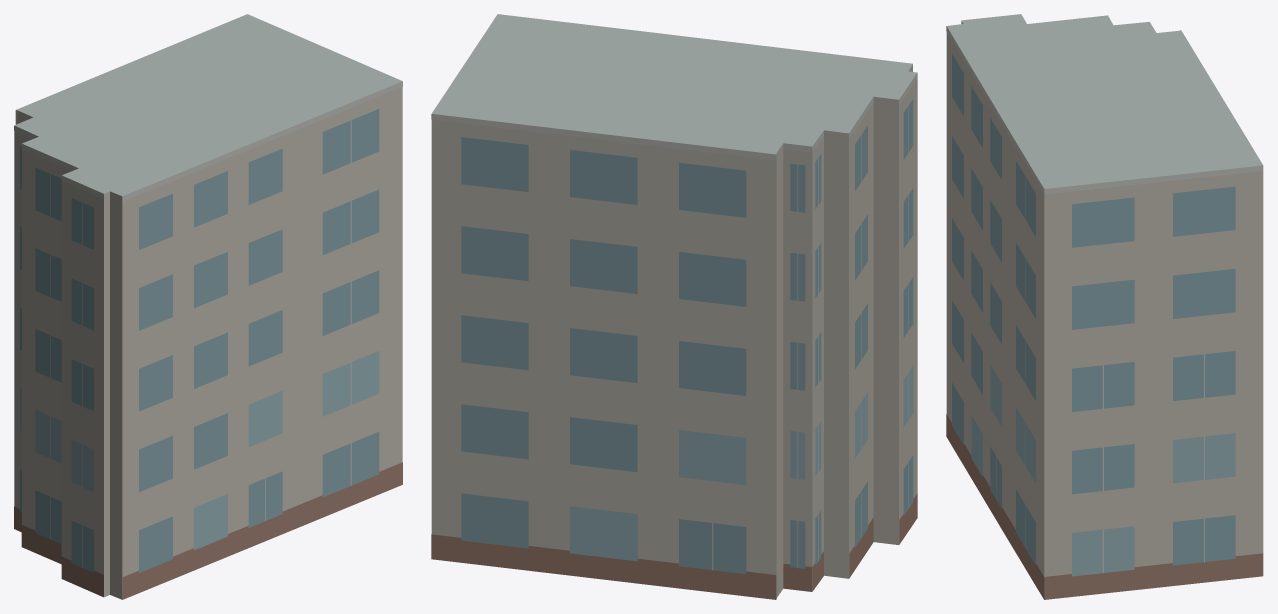
Rendered from survey-upis-33041779.glb.
3 renders of one model, left to right at view 1: azimuth 30°, elevation 25°; view 2: azimuth 150°, elevation 25°; view 3: azimuth 270°, elevation 25°, orthographic. The views are drawn at different scales.
Visible parts, largest first — view 1: survey-upis-33041779.tmp; view 2: survey-upis-33041779.tmp; view 3: survey-upis-33041779.tmp.
Part boxes in pixels (x1=…): survey-upis-33041779.tmp: x1=14, y1=14, x2=402, y2=599; survey-upis-33041779.tmp: x1=431, y1=14, x2=917, y2=599; survey-upis-33041779.tmp: x1=946, y1=14, x2=1263, y2=599.
Bounding box in the file's own units: 16.64 × 18.2 × 12.73.
